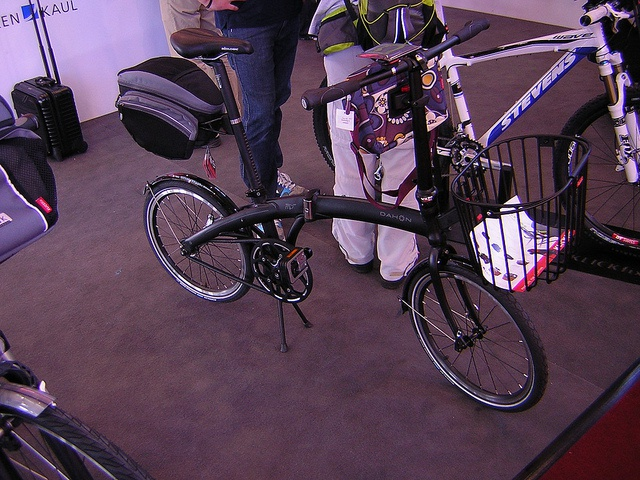non-vehicle: (142, 16, 546, 413), (436, 1, 639, 262), (0, 329, 154, 480)
